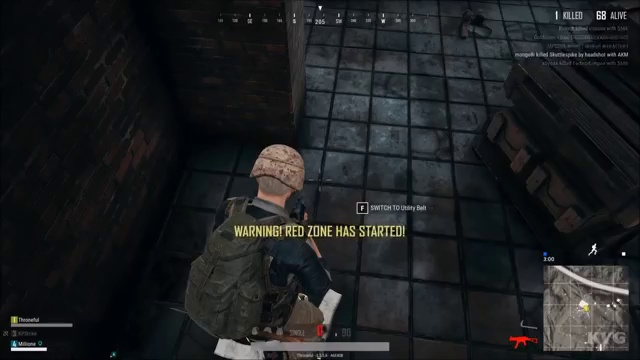Player: (165, 123, 361, 326)
